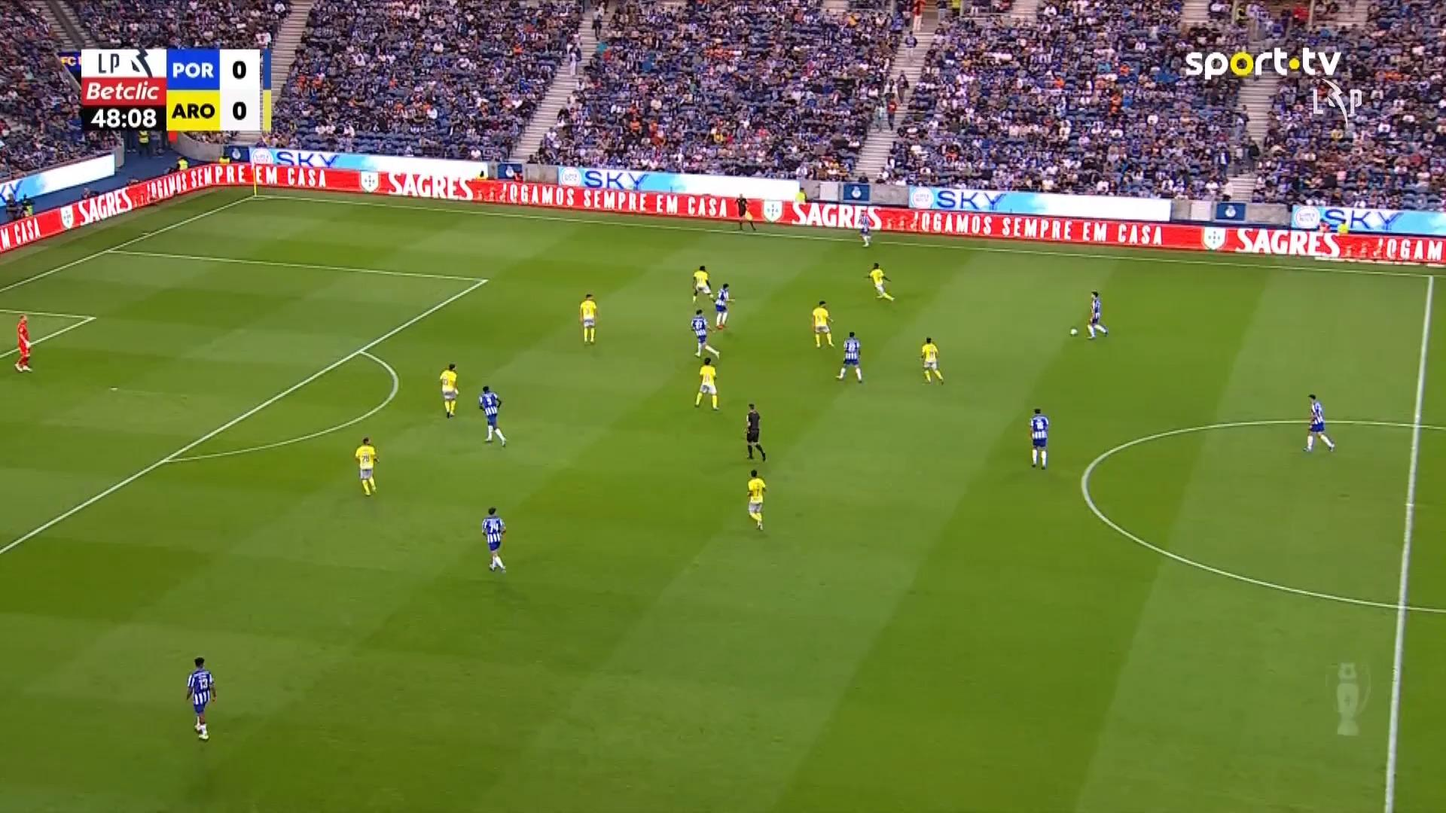ball: (1069, 327, 1078, 335)
goalkeeper: (14, 313, 33, 372)
player: (185, 656, 216, 740), (1302, 393, 1335, 452), (480, 506, 507, 572), (477, 385, 506, 446), (689, 308, 720, 359), (354, 436, 379, 496), (835, 330, 863, 382), (694, 356, 719, 410), (1028, 406, 1049, 468), (746, 468, 767, 530), (438, 362, 459, 418), (810, 299, 834, 348), (920, 336, 944, 384), (712, 282, 736, 330), (866, 261, 895, 300), (1086, 290, 1108, 340), (578, 293, 598, 344), (691, 264, 712, 303), (856, 208, 872, 248)
referee: (744, 402, 766, 461), (735, 192, 756, 231)
